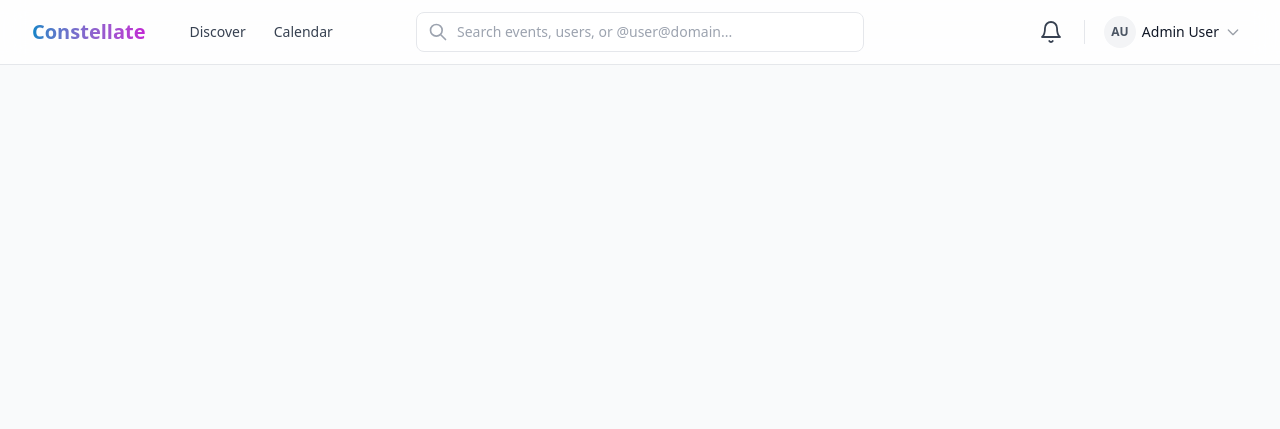
Scenario: Navbar Component › should show admin link in user menu when user is admin
Click the button with aria-label "User menu".
click(1172, 32)  # box top-left (1097, 9), bottom-right (1248, 55)
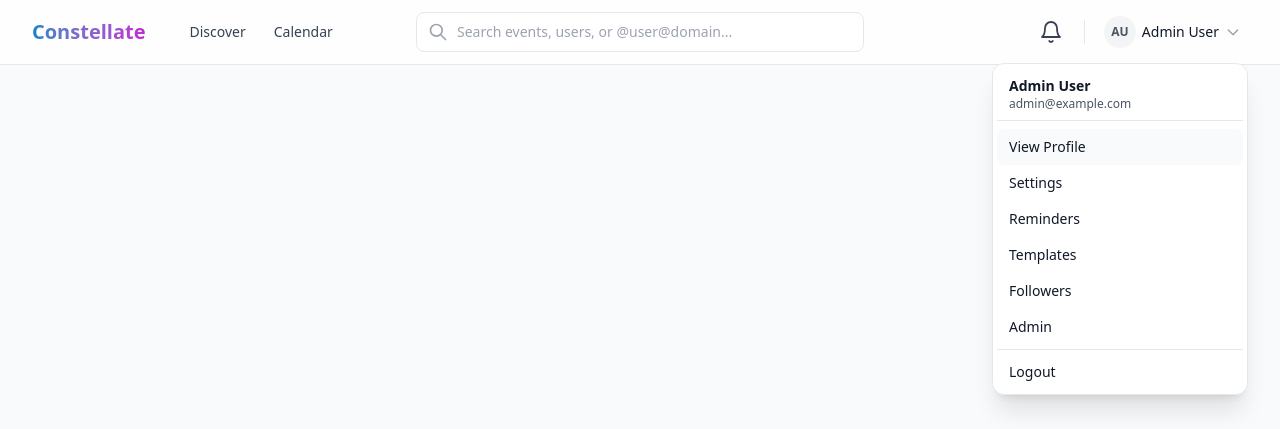
Check: the menu item "View Profile" is shown, box top-left (997, 129), bottom-right (1243, 165)
Check: the menu item "Admin" is shown, box top-left (1009, 317), bottom-right (1052, 336)
